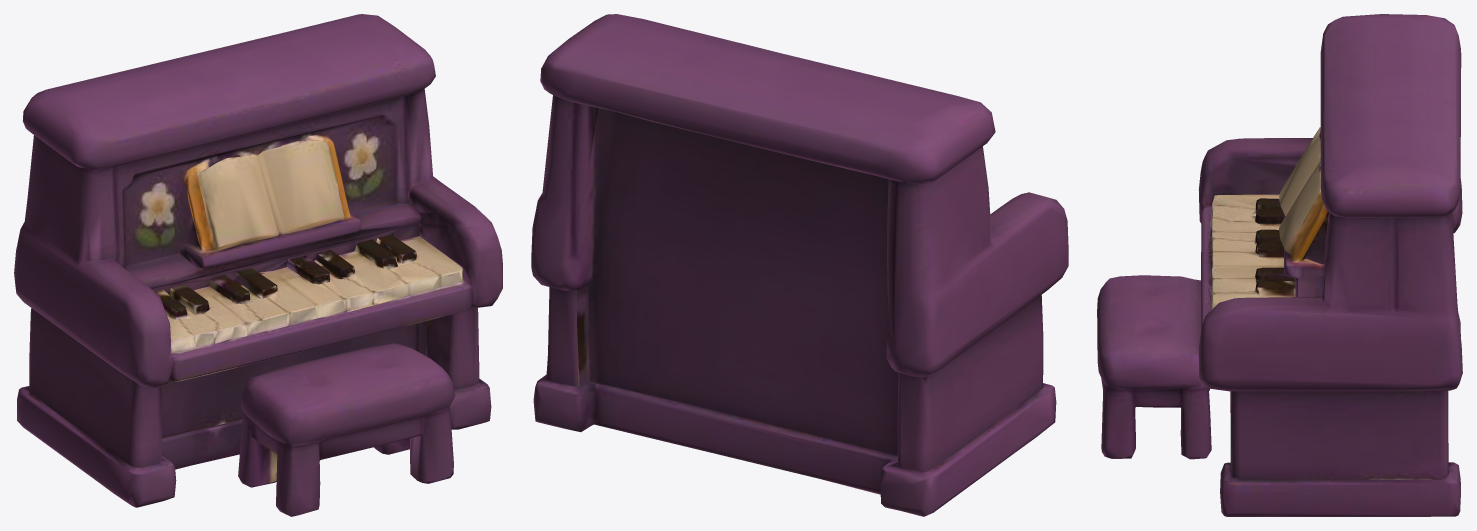
The model's file is piano.glb.
3 views of the same model, side by side, from view 1: azimuth 30°, elevation 25°; view 2: azimuth 150°, elevation 25°; view 3: azimuth 270°, elevation 25° (orthographic). The views are drawn at different scales.
Visible parts, largest first — view 1: textured_mesh.obj; view 2: textured_mesh.obj; view 3: textured_mesh.obj.
Boxes of the visible parts, box(x1,y1,x2,y2) form: textured_mesh.obj: box(14, 14, 502, 516); textured_mesh.obj: box(531, 14, 1068, 516); textured_mesh.obj: box(1097, 14, 1462, 516).
Size of what is drawn, in the model's own units: 1.37 by 1.2 by 1.17.
Materials: 1 (1 with a texture image).
